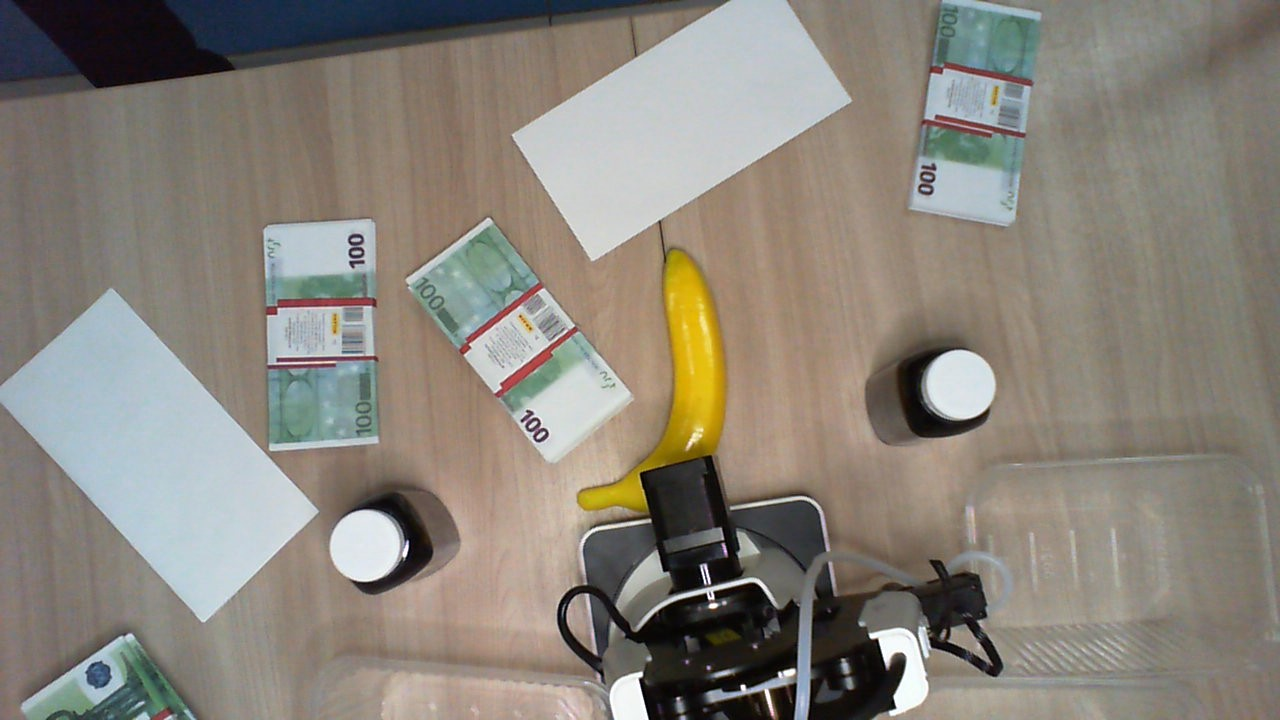banana: (577, 245, 728, 517)
bottle: (328, 489, 431, 597), (899, 345, 998, 439)
convert: (1, 288, 322, 622), (513, 1, 853, 263)
money: (403, 216, 636, 470), (907, 2, 1046, 234), (261, 220, 385, 452), (27, 635, 201, 720)
